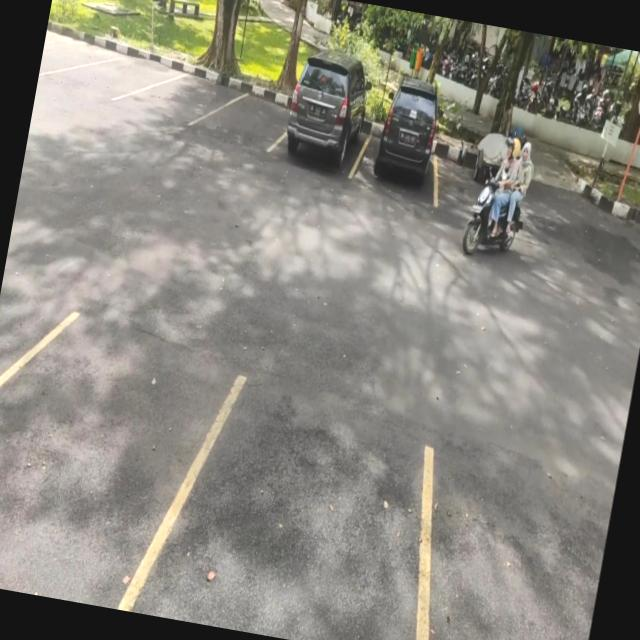car: (274, 57, 376, 182), (354, 80, 454, 204)
free: (124, 382, 430, 640), (0, 302, 233, 594), (41, 51, 185, 110), (188, 90, 298, 157), (111, 73, 250, 123)
